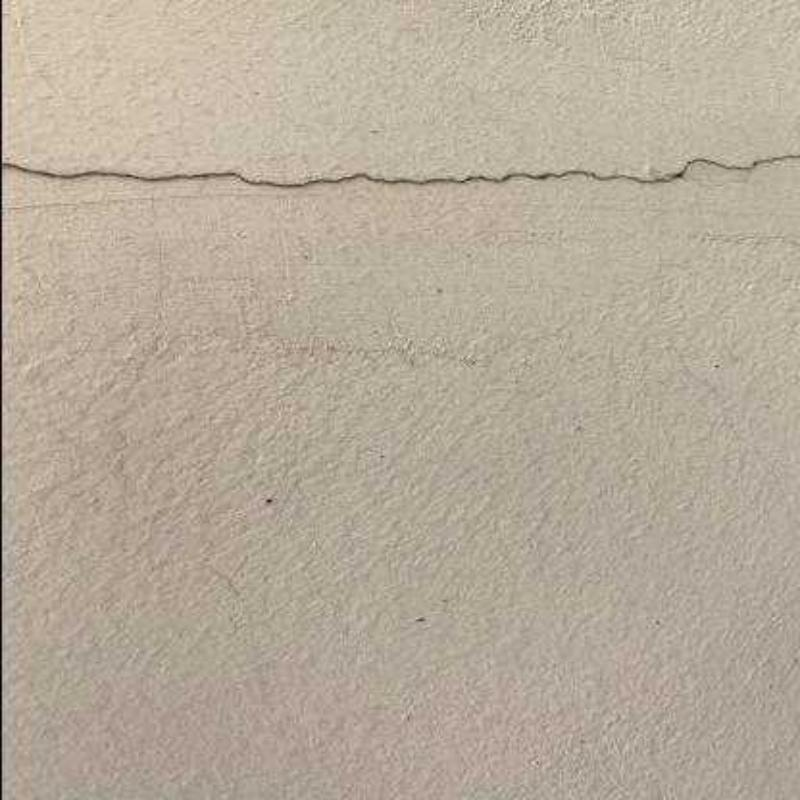pothole: (0, 155, 800, 187)
